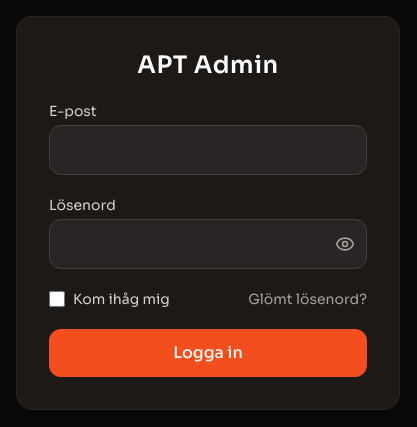
AdminLogin › Forgot password flow › pre-fills email from login form into request code view
Type "admin@test.com" into the field labelled "E-post" at x=208, y=150, box [49,125,367,175]
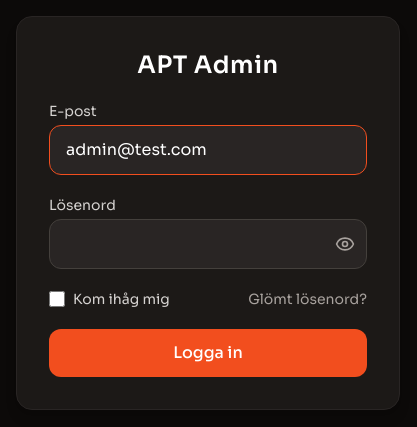
Click the button "Glömt lösenord?" at x=308, y=299, box [248,289,367,309]
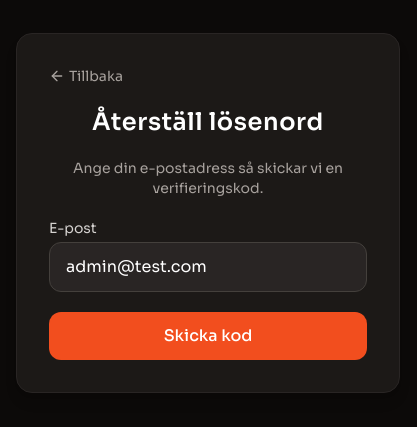
Expected: the field labelled "E-post" holds "admin@test.com", [49,242,367,292]
